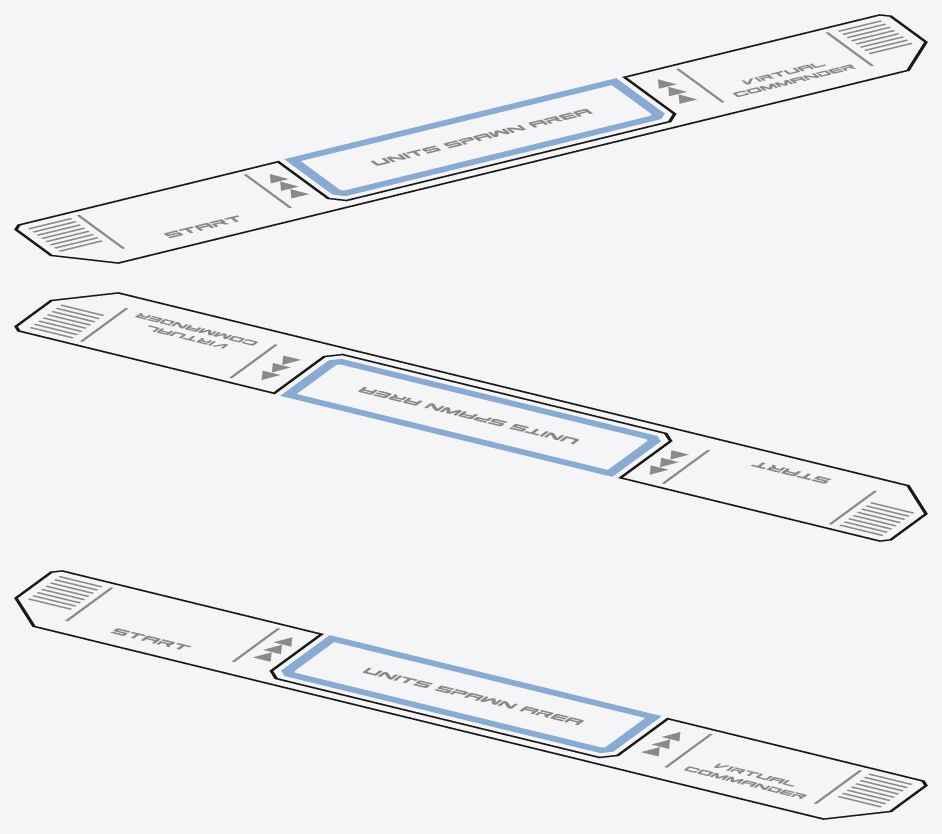
File: panel.FBX
The picture shows the model from 3 angles, top to bottom: view 1: azimuth 30°, elevation 25°; view 2: azimuth 150°, elevation 25°; view 3: azimuth 330°, elevation 25°; orthographic projection.
Parts seen in each view (by area): view 1: Rectangle022, Rectangle001, Text013, Text014; view 2: Rectangle022, Rectangle001, Text013, Text014; view 3: Rectangle022, Rectangle001, Text013, Text014.
Boxes of the visible parts, x1=… form: Rectangle022: x1=284, y1=78, x2=664, y2=195; Rectangle001: x1=14, y1=14, x2=927, y2=263; Text013: x1=370, y1=109, x2=592, y2=165; Text014: x1=733, y1=63, x2=856, y2=96; Rectangle022: x1=280, y1=359, x2=660, y2=476; Rectangle001: x1=14, y1=292, x2=927, y2=541; Text013: x1=358, y1=387, x2=578, y2=444; Text014: x1=135, y1=313, x2=257, y2=348; Rectangle022: x1=281, y1=635, x2=661, y2=752; Rectangle001: x1=14, y1=570, x2=927, y2=819; Text013: x1=363, y1=667, x2=583, y2=724; Text014: x1=684, y1=763, x2=806, y2=798.
Bounding box in the file's own units: 82.73 × 10.77 × 2.78e-05.
